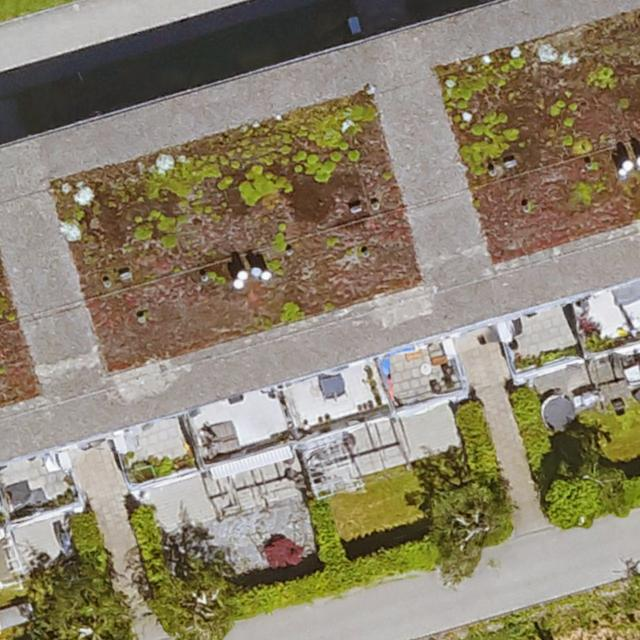tree: (418, 449, 515, 567), (24, 555, 132, 639), (144, 548, 235, 640), (541, 458, 627, 531)
